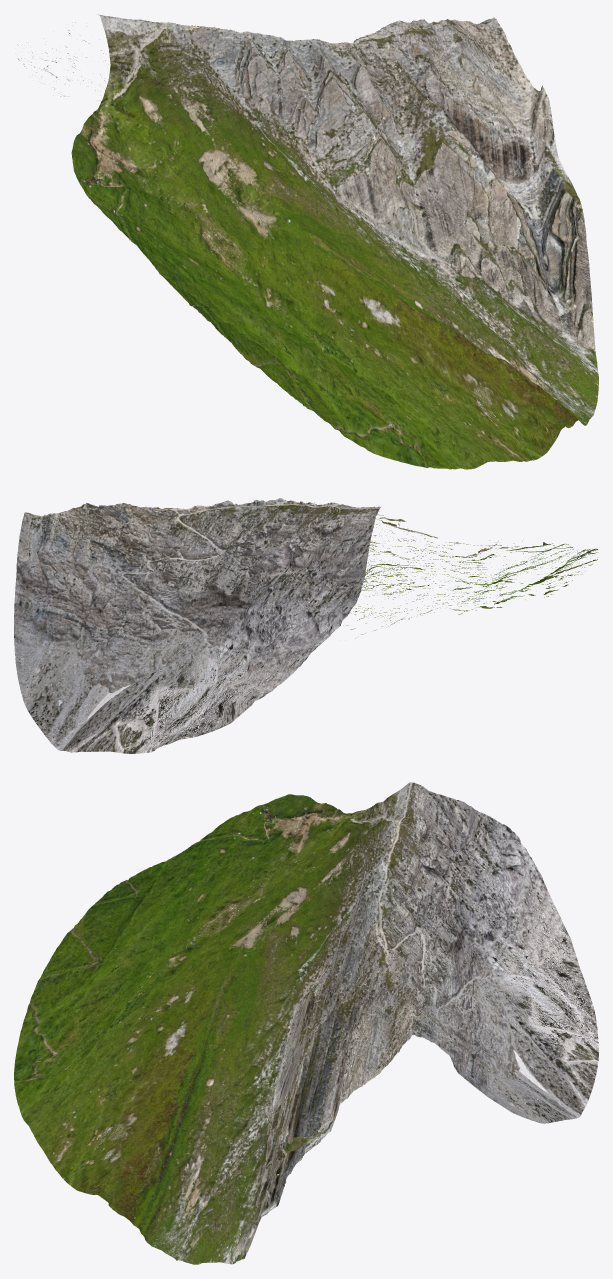
Rendered from weisse_wand_mountain_peek_2517_m_8257_ft_m.glb.
3 renders of one model, top to bottom at view 1: azimuth 30°, elevation 25°; view 2: azimuth 150°, elevation 25°; view 3: azimuth 270°, elevation 25°, orthographic. The views are drawn at different scales.
Visible parts, largest first — view 1: Skybox_whiteWalls_Model_3_u1_v1_0; view 2: Skybox_whiteWalls_Model_3_u1_v1_0; view 3: Skybox_whiteWalls_Model_3_u1_v1_0.
Boxes of the visible parts, box(x1,y1,x2,y2) form: Skybox_whiteWalls_Model_3_u1_v1_0: box(16, 14, 598, 469); Skybox_whiteWalls_Model_3_u1_v1_0: box(14, 498, 597, 753); Skybox_whiteWalls_Model_3_u1_v1_0: box(14, 782, 598, 1264).
Size of what is drawn, in the model's own units: 1 by 0.7126 by 1.15.
1 material, 1 textured.
